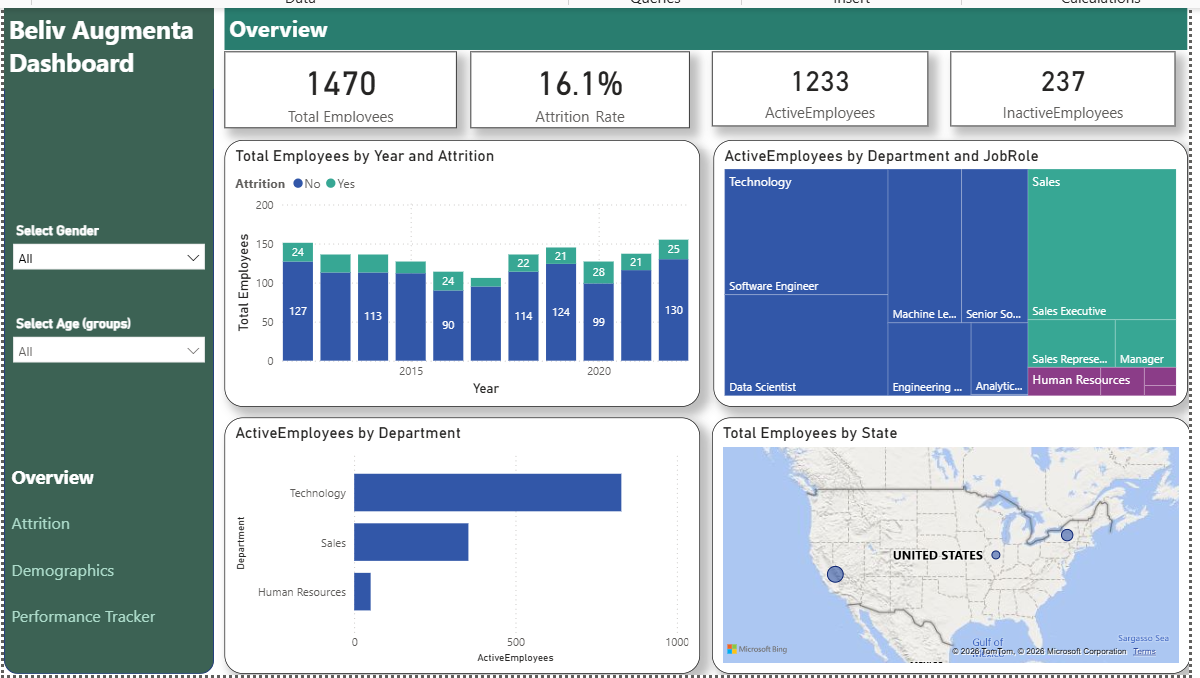

What the dashboard file says about the page in this screenshot:
{"tool":"powerbi","page":{"name":"Overview","canvas":[1280,720],"ordinal":0},"visuals":[{"type":"card","fields":{"Values":["Calmeasures.Total_Employee"]},"box":[238,47,251,82.6],"z":0},{"type":"card","fields":{"Values":["Calmeasures.Active Employees"]},"box":[1021.7,47,242.9,81],"z":1000},{"type":"card","fields":{"Values":["Calmeasures.ActiveEmployees"]},"box":[764.3,47,233.2,81],"z":2000},{"type":"card","fields":{"Values":["Calmeasures.Attrition_Rate"]},"box":[503.6,47,236.4,82.6],"z":3000},{"type":"columnChart","fields":{"Category":["DimDate.Date.Variation.Date Hierarchy.Year"],"Series":["DimEmployee.Attrition"],"Y":["Calmeasures.Total Employees"]},"box":[238,142.5,513.3,288.2],"z":4000},{"type":"barChart","fields":{"Category":["DimEmployee.Department"],"Y":["Calmeasures.ActiveEmployees"]},"box":[238,442,513.3,276.9],"z":5000},{"type":"treemap","fields":{"Group":["DimEmployee.Department"],"Details":["DimEmployee.JobRole"],"Values":["Calmeasures.ActiveEmployees"]},"box":[765.9,142.5,511.7,288.2],"z":6000},{"type":"textbox","box":[238,0,1039.5,45.3],"z":7000},{"type":"map","fields":{"Category":["DimEmployee.State"],"Size":["Calmeasures.Total Employees"]},"box":[764.3,442,516.5,276.9],"z":8000},{"type":"shape","box":[0,0,226.7,718.9],"z":9000},{"type":"pageNavigator","box":[0,480.9,200.8,200.8],"z":10000},{"type":"slicer","fields":{"Values":["DimEmployee.Gender"]},"box":[0,226.7,226.7,59.9],"z":11000},{"type":"slicer","fields":{"Values":["DimEmployee.Age (groups)"]},"box":[0,327.1,226.7,63.1],"z":12000},{"type":"textbox","box":[0,0,226.7,87.4],"z":13000}]}

Visuals, with their boxes in screenshot pixels (x1, y1, x2, y2):
card - Calmeasures.Total_Employee: (x1=220, y1=47, x2=452, y2=123)
card - Calmeasures.Active Employees: (x1=945, y1=47, x2=1169, y2=121)
card - Calmeasures.ActiveEmployees: (x1=707, y1=47, x2=922, y2=121)
card - Calmeasures.Attrition_Rate: (x1=466, y1=47, x2=684, y2=123)
columnChart - DimDate.Date.Variation.Date Hierarchy.Year x DimEmployee.Attrition: (x1=220, y1=135, x2=695, y2=401)
barChart - DimEmployee.Department x Calmeasures.ActiveEmployees: (x1=220, y1=412, x2=695, y2=668)
treemap - DimEmployee.Department x DimEmployee.JobRole: (x1=708, y1=135, x2=1181, y2=401)
textbox: (x1=220, y1=3, x2=1181, y2=45)
map - DimEmployee.State x Calmeasures.Total Employees: (x1=707, y1=412, x2=1184, y2=668)
shape: (x1=0, y1=3, x2=210, y2=668)
pageNavigator: (x1=0, y1=448, x2=186, y2=633)
slicer - DimEmployee.Gender: (x1=0, y1=213, x2=210, y2=268)
slicer - DimEmployee.Age (groups): (x1=0, y1=306, x2=210, y2=364)
textbox: (x1=0, y1=3, x2=210, y2=84)
